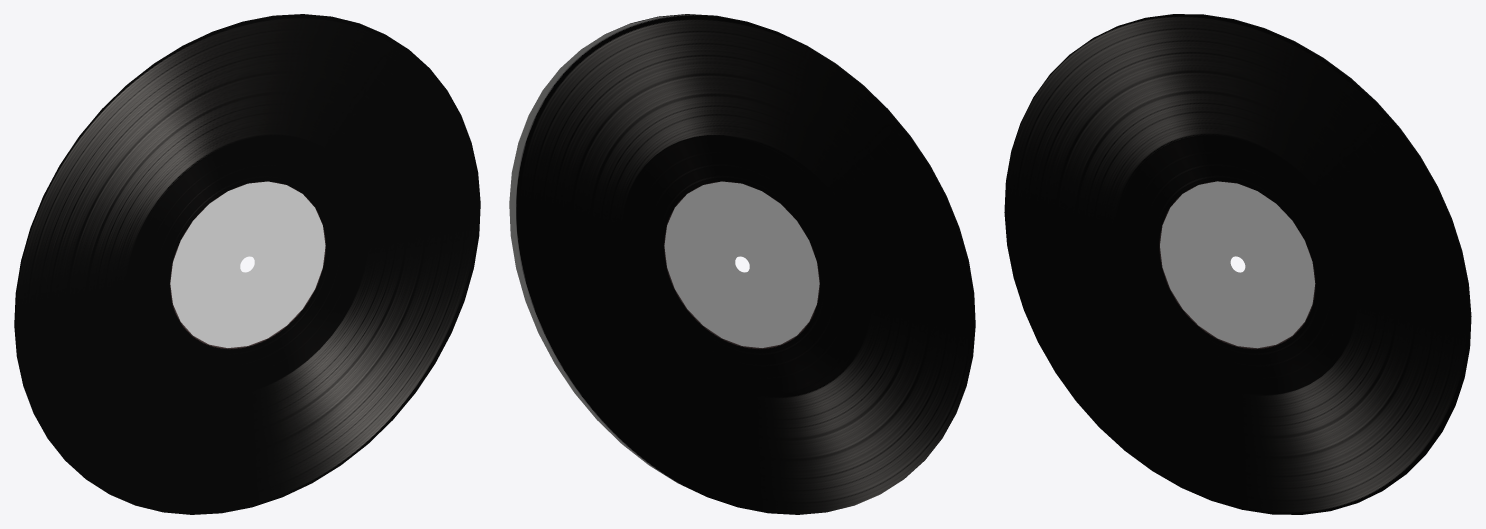
Rendered from vinyl.glb.
The picture shows the model from 3 angles, left to right: view 1: azimuth 30°, elevation 25°; view 2: azimuth 150°, elevation 25°; view 3: azimuth 330°, elevation 25°; orthographic projection.
Visible parts, largest first — view 1: node-0; view 2: node-0; view 3: node-0.
Boxes of the visible parts, box(x1,y1,x2,y2) form: node-0: box(14, 14, 480, 514); node-0: box(509, 14, 975, 514); node-0: box(1004, 14, 1471, 514).
Size of the model in its own units: 0.3 by 0.3 by 0.001.
Materials: 3 (1 with a texture image).
